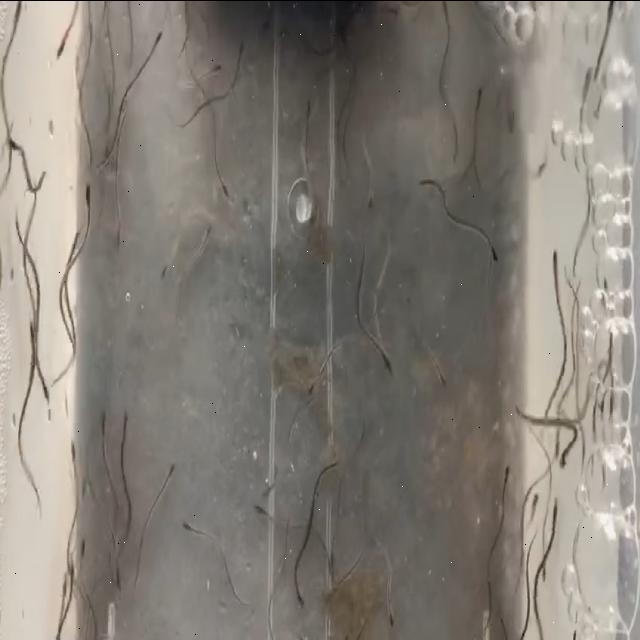active_glass_eel: (50, 4, 74, 68), (210, 168, 240, 212), (304, 351, 328, 399), (108, 204, 128, 260), (382, 576, 404, 626), (36, 360, 58, 408), (482, 231, 504, 279), (544, 227, 560, 291), (551, 440, 573, 486), (64, 435, 80, 497), (96, 396, 116, 444), (329, 159, 355, 195), (200, 214, 222, 256), (290, 574, 312, 614), (466, 72, 486, 116), (149, 19, 171, 57), (372, 344, 394, 380), (433, 360, 451, 404), (174, 506, 196, 540), (550, 477, 564, 528), (166, 448, 180, 498), (61, 549, 85, 575), (248, 498, 268, 528), (205, 53, 222, 88), (74, 188, 95, 214), (115, 556, 129, 592), (66, 232, 80, 268), (302, 89, 316, 125), (35, 156, 48, 192), (25, 318, 43, 344), (160, 246, 173, 282), (524, 491, 538, 519), (451, 136, 464, 160), (122, 408, 132, 438), (232, 44, 250, 60), (328, 577, 338, 599)
